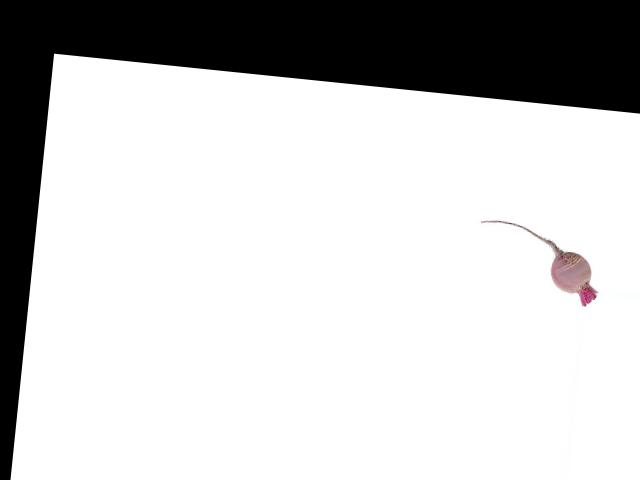beet: (472, 218, 603, 307)
